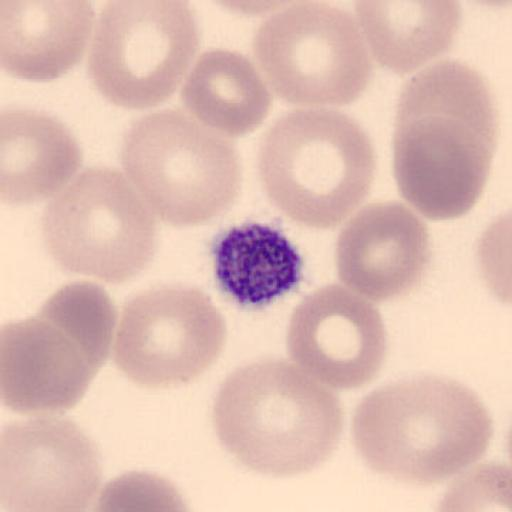Platelet: (208, 216, 308, 313)
RBC: (348, 369, 494, 484), (211, 356, 345, 480), (389, 60, 500, 209), (254, 104, 377, 232), (120, 106, 244, 228), (38, 167, 160, 284), (249, 0, 374, 111), (85, 0, 202, 113), (111, 280, 227, 390), (284, 281, 388, 392), (392, 59, 500, 165), (390, 116, 492, 221), (333, 200, 432, 304), (2, 414, 104, 512), (1, 100, 84, 210), (2, 317, 92, 415), (180, 46, 272, 139), (352, 0, 464, 76), (36, 279, 119, 375), (2, 0, 96, 83), (90, 467, 200, 512), (434, 461, 512, 512), (475, 207, 512, 308), (196, 0, 329, 20), (456, 0, 512, 11)
